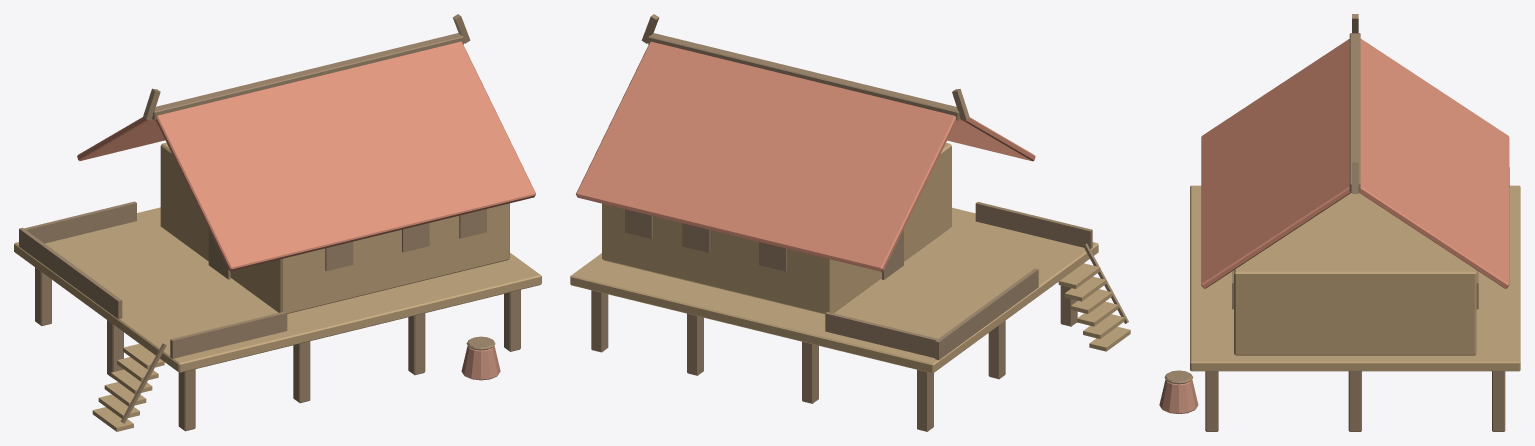
The model's file is House.fbx.
3 renders of one model, left to right at view 1: azimuth 30°, elevation 25°; view 2: azimuth 150°, elevation 25°; view 3: azimuth 270°, elevation 25°, orthographic.
Visible parts, largest first — view 1: HS_RoofB, HS_Floor, HS_Walls, HS_Ridge, HS_RailSide1, HS_RailFront, HS_RailSide2, HS_RoofA, HS_Stilt3_1, HS_Stilt2_1, HS_WaterJar, HS_Stilt1_1 (+9 smaller); view 2: HS_RoofA, HS_Floor, HS_Walls, HS_Ridge, HS_RailSide1, HS_RailSide2, HS_RailFront, HS_RoofB, HS_Stilt4_3, HS_Stilt2_3, HS_Stilt3_3, HS_Stilt1_3 (+10 smaller); view 3: HS_Walls, HS_RoofA, HS_RoofB, HS_Floor, HS_Ridge, HS_WaterJar, HS_Stilt4_2, HS_Stilt4_3, HS_Stilt4_1.
Part boxes in pixels (<box>): HS_RoofB: <box>156,41,535,271</box>; HS_Floor: <box>14,207,541,372</box>; HS_Walls: <box>160,142,509,313</box>; HS_Ridge: <box>152,33,463,120</box>; HS_RailSide1: <box>170,311,287,358</box>; HS_RailFront: <box>19,227,122,319</box>; HS_RailSide2: <box>20,201,136,248</box>; HS_RoofA: <box>77,117,164,160</box>; HS_Stilt3_1: <box>408,313,425,375</box>; HS_Stilt2_1: <box>293,341,310,403</box>; HS_WaterJar: <box>461,346,500,380</box>; HS_Stilt1_1: <box>178,369,195,431</box>; HS_RoofA: <box>576,41,956,271</box>; HS_Floor: <box>570,207,1098,373</box>; HS_Walls: <box>602,143,951,314</box>; HS_Ridge: <box>648,33,960,120</box>; HS_RailSide1: <box>975,202,1092,249</box>; HS_RailSide2: <box>825,312,942,359</box>; HS_RailFront: <box>935,268,1038,360</box>; HS_RoofB: <box>947,117,1035,161</box>; HS_Stilt4_3: <box>591,290,608,352</box>; HS_Stilt2_3: <box>802,341,818,403</box>; HS_Stilt3_3: <box>687,313,703,375</box>; HS_Stilt1_3: <box>917,370,933,431</box>; HS_Walls: <box>1234,192,1476,355</box>; HS_RoofA: <box>1359,39,1509,288</box>; HS_RoofB: <box>1201,39,1351,288</box>; HS_Floor: <box>1190,185,1520,371</box>; HS_Ridge: <box>1349,33,1360,192</box>; HS_WaterJar: <box>1159,379,1198,413</box>; HS_Stilt4_2: <box>1348,371,1361,431</box>; HS_Stilt4_3: <box>1492,371,1505,431</box>; HS_Stilt4_1: <box>1205,371,1218,431</box>.
Size of the model in its own units: 21.93 by 13.81 by 16.39.
